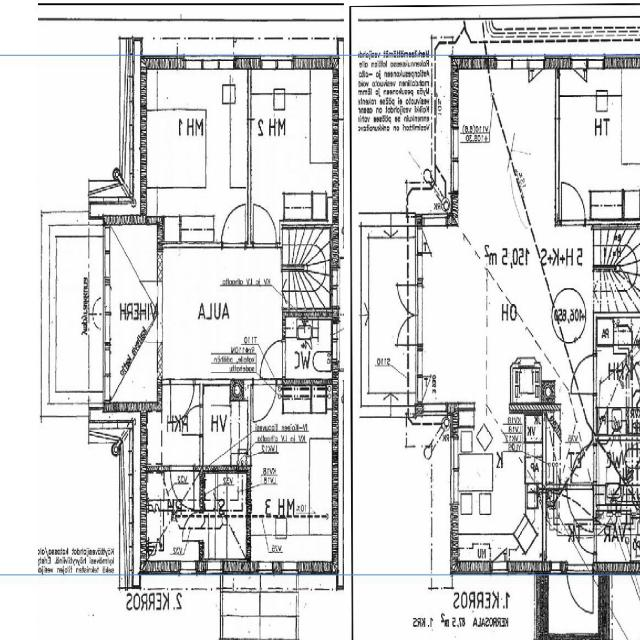door: (567, 561, 592, 615), (567, 483, 593, 530), (254, 204, 278, 247), (570, 355, 597, 393), (171, 466, 195, 508), (223, 204, 246, 247), (171, 379, 194, 422), (570, 444, 596, 482), (260, 340, 286, 378), (562, 182, 585, 224), (254, 379, 276, 421), (573, 519, 596, 553), (397, 284, 423, 314), (397, 315, 423, 345), (138, 280, 162, 312), (138, 312, 162, 342), (182, 511, 205, 540), (182, 406, 204, 434)
